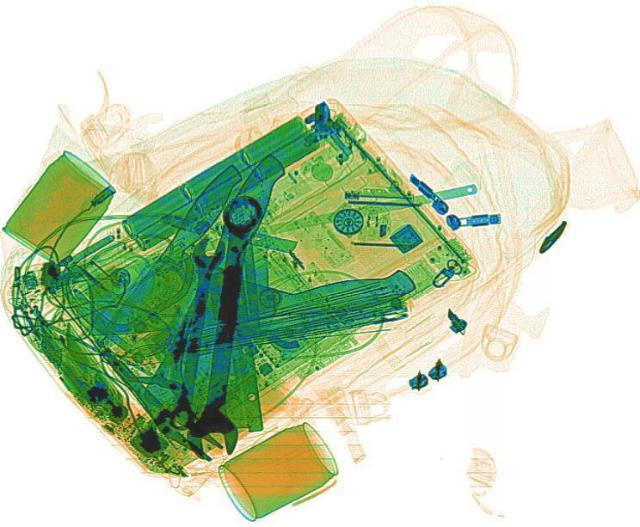Knife: (72, 221, 418, 346), (132, 150, 290, 405), (102, 161, 250, 326)
Wrench: (188, 192, 260, 459), (165, 236, 221, 429)
